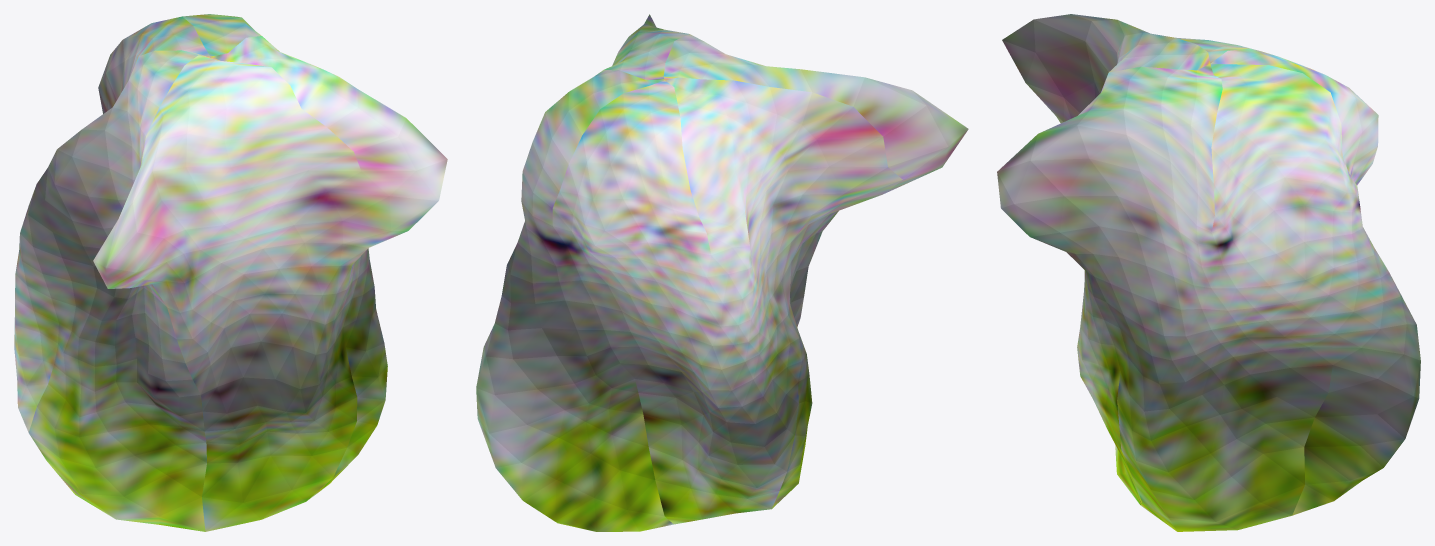
3 views of the same model, side by side, from view 1: azimuth 30°, elevation 25°; view 2: azimuth 150°, elevation 25°; view 3: azimuth 270°, elevation 25° (orthographic). The views are drawn at different scales.
Parts seen in each view (by area): view 1: pMesh1; view 2: pMesh1; view 3: pMesh1.
Boxes of the visible parts, x1,y1,x2,y2 form: pMesh1: [14, 14, 447, 531]; pMesh1: [476, 14, 968, 531]; pMesh1: [997, 14, 1420, 531].
Bounding box in the file's own units: 2.63 × 3.16 × 2.79.
Materials: 1 (1 with a texture image).
